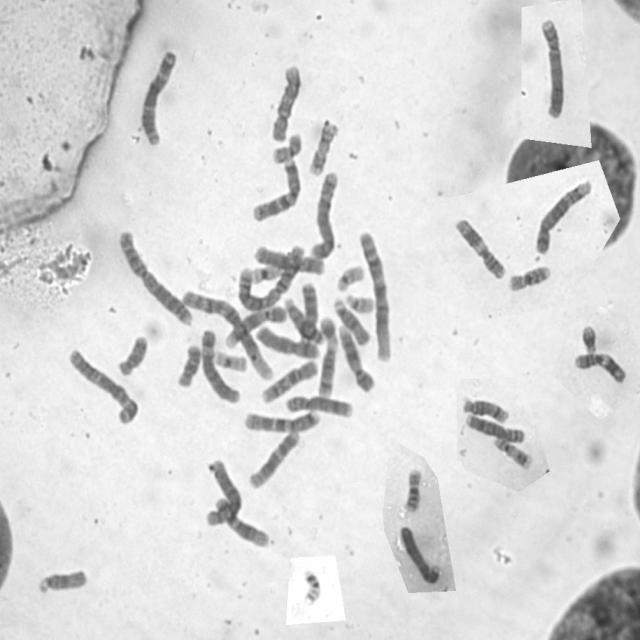A1: (178, 288, 276, 382), (356, 228, 396, 365)
A2: (116, 229, 195, 327), (236, 243, 308, 313)
A3: (68, 346, 140, 425), (138, 45, 182, 150)
B4: (532, 14, 572, 126), (394, 517, 446, 586)
B5: (533, 174, 596, 257), (307, 170, 344, 260)
C10: (269, 64, 305, 144), (260, 358, 320, 405)
C11: (451, 216, 507, 282), (572, 351, 629, 386)
C12: (245, 427, 302, 492), (212, 497, 270, 549)
C6: (199, 328, 244, 406), (202, 456, 244, 526)
C7: (250, 158, 302, 225), (242, 408, 325, 433)
C8: (464, 413, 528, 445), (284, 394, 356, 419)
C9: (222, 304, 288, 353), (336, 323, 377, 395)
D13: (283, 296, 326, 346), (298, 280, 322, 346)
D14: (459, 395, 515, 425), (320, 345, 340, 400)
D15: (30, 566, 95, 599), (331, 297, 373, 347)
E16: (506, 262, 553, 296), (400, 467, 424, 515)
E17: (310, 116, 344, 179), (491, 436, 534, 474)
E18: (116, 331, 150, 379), (174, 343, 202, 389)
F19: (212, 349, 248, 375), (249, 266, 286, 286)
F20: (294, 562, 332, 614), (270, 131, 302, 166)
G21: (318, 314, 340, 350), (580, 321, 598, 357)
G22: (335, 264, 365, 294), (342, 292, 377, 316)
X: (254, 325, 322, 359), (254, 245, 328, 276)
